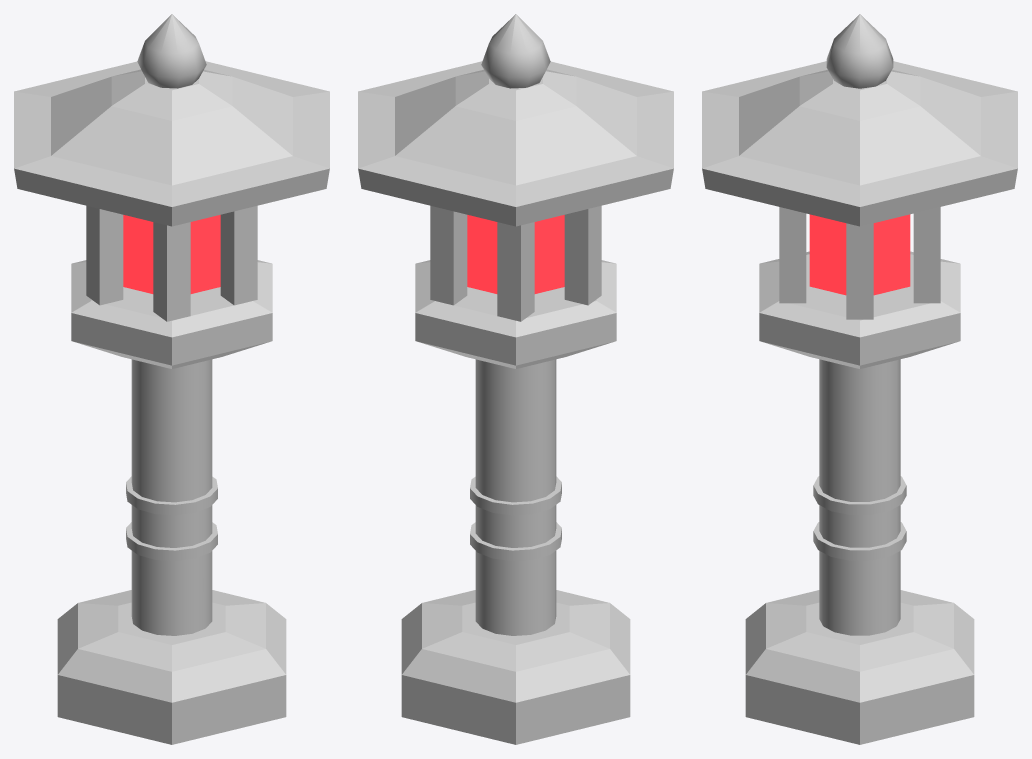
The model's file is toro_kasuga.glb.
3 renders of one model, left to right at view 1: azimuth 30°, elevation 25°; view 2: azimuth 150°, elevation 25°; view 3: azimuth 270°, elevation 25°, orthographic.
Parts seen in each view (by area): view 1: toro_kasuga_LOD0; view 2: toro_kasuga_LOD0; view 3: toro_kasuga_LOD0.
Part boxes in pixels (x1,y1,x2,y2): toro_kasuga_LOD0: (14, 14, 329, 744); toro_kasuga_LOD0: (358, 14, 673, 744); toro_kasuga_LOD0: (702, 14, 1017, 744).
Size of what is drawn, in the model's own units: 0.94 by 1.92 by 0.8141.
